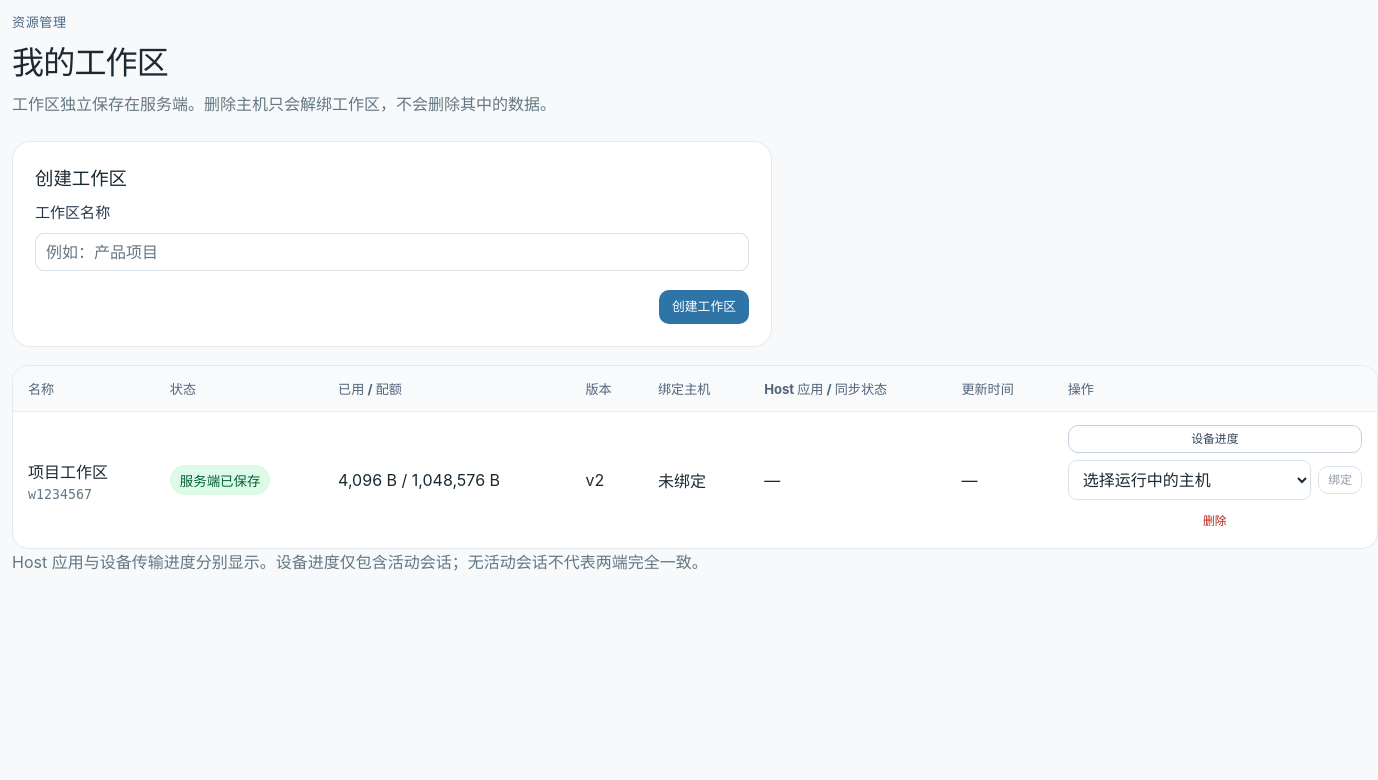
Workspaces › preserves a newer host selection when an earlier bind request completes
The width and height of the screenshot is (1378, 780).
Select "开发电脑" in the dropdown named "工作区 项目工作区 的绑定主机" at (1189, 480), box [1068, 460, 1311, 500]
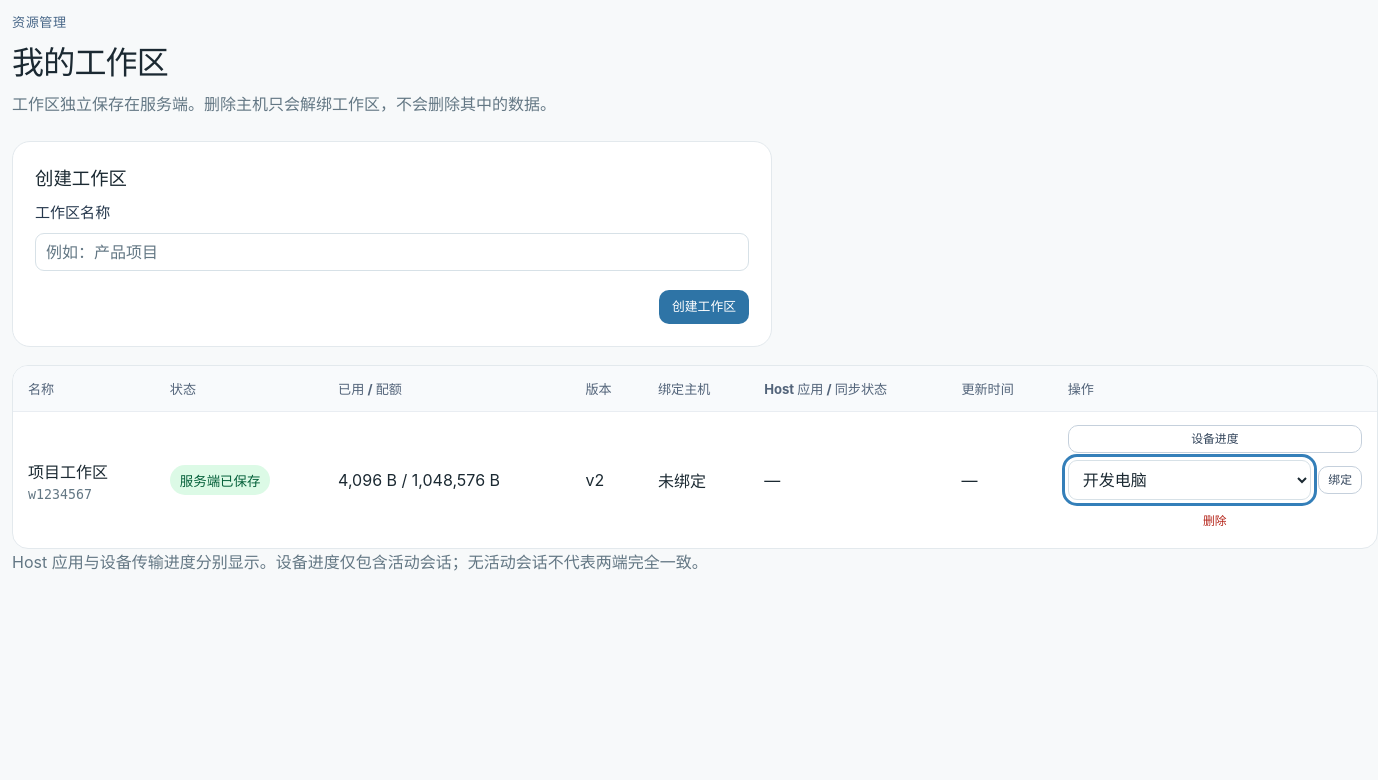
Click the button "绑定" at (1340, 480), box [1318, 466, 1362, 494]
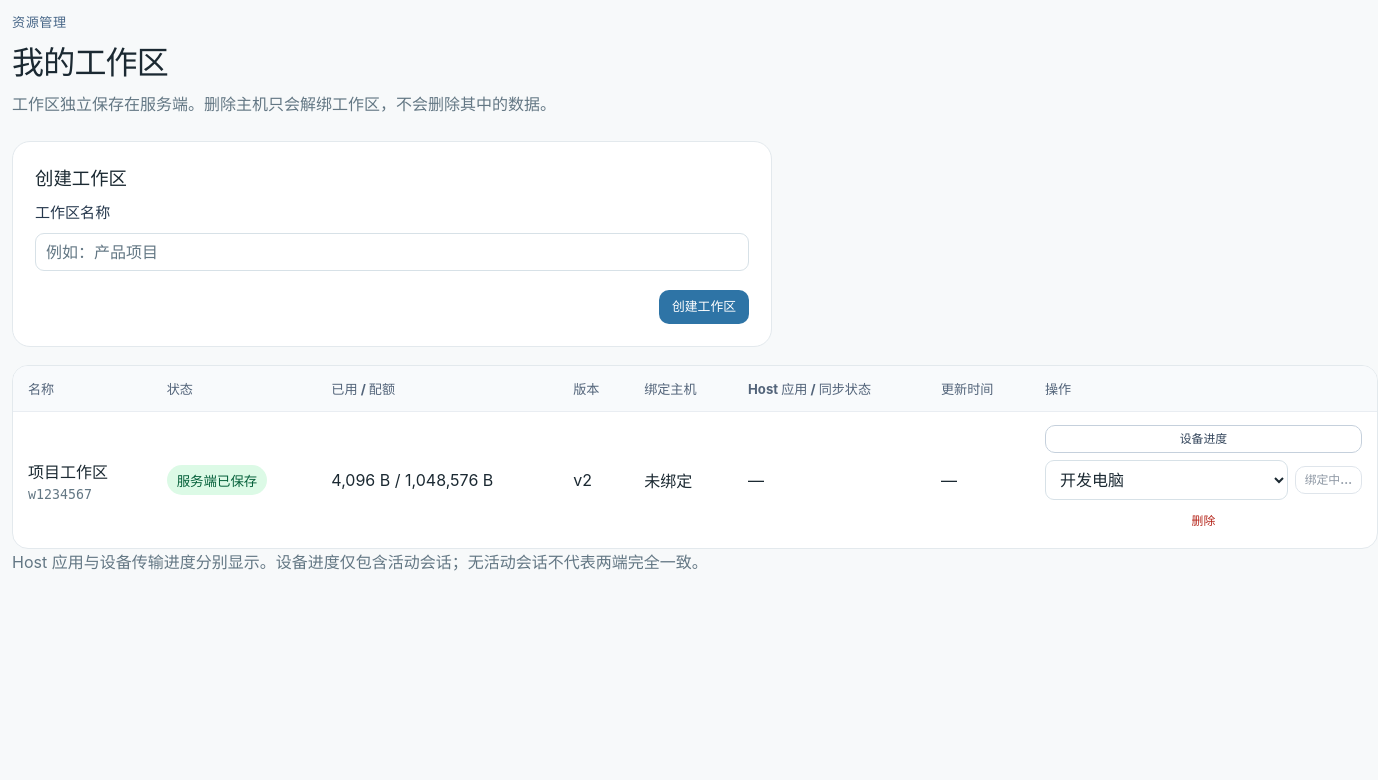
Select "备用电脑" in the dropdown named "工作区 项目工作区 的绑定主机" at (1166, 480), box [1045, 460, 1288, 500]
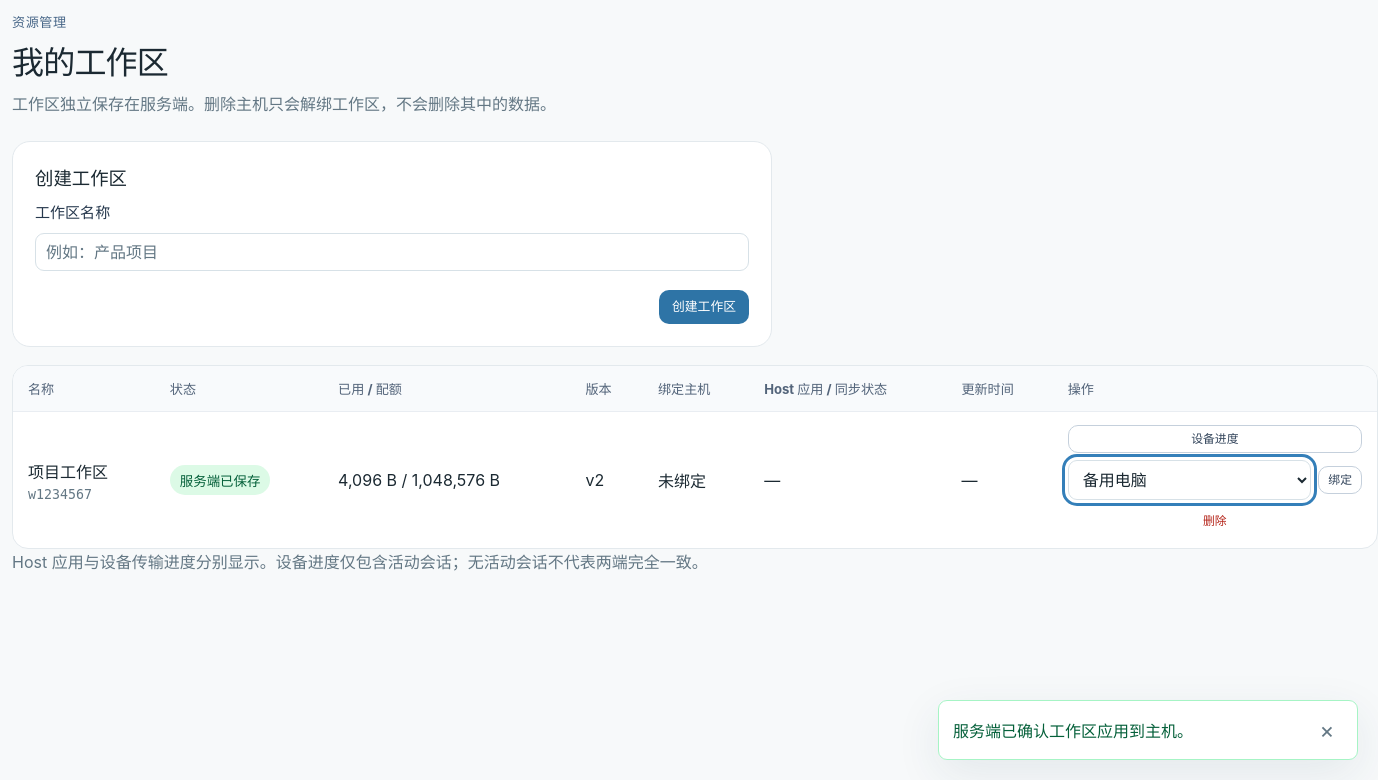
Expected: the text "服务端已确认工作区应用到主机。" is shown, [953, 721, 1193, 741]
